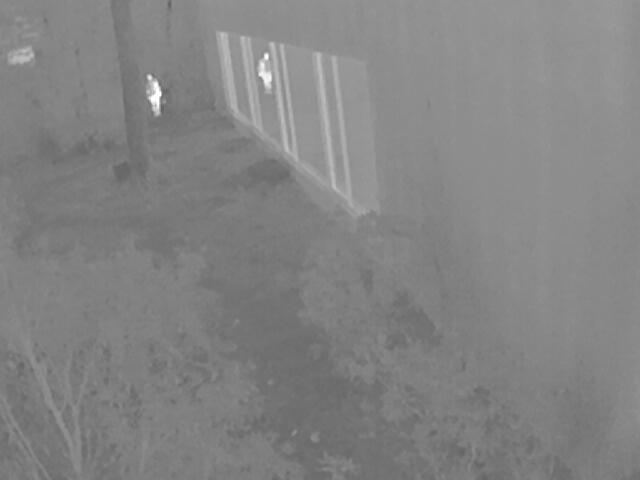person: (144, 72, 161, 116), (256, 50, 273, 92)
